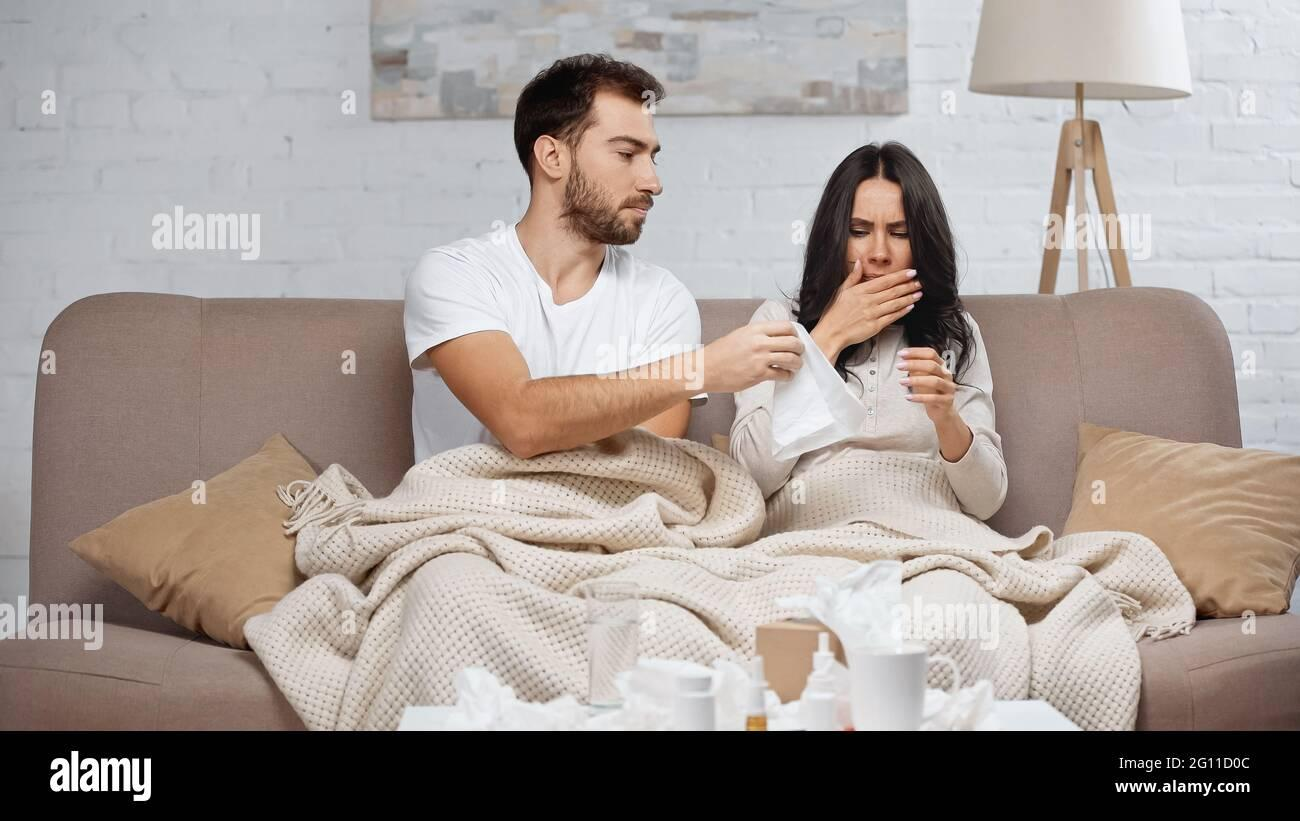blanket: (240, 422, 1201, 734)
long sleeve shirt: (728, 290, 1011, 524)
short sleeve shirt: (404, 218, 705, 480)
